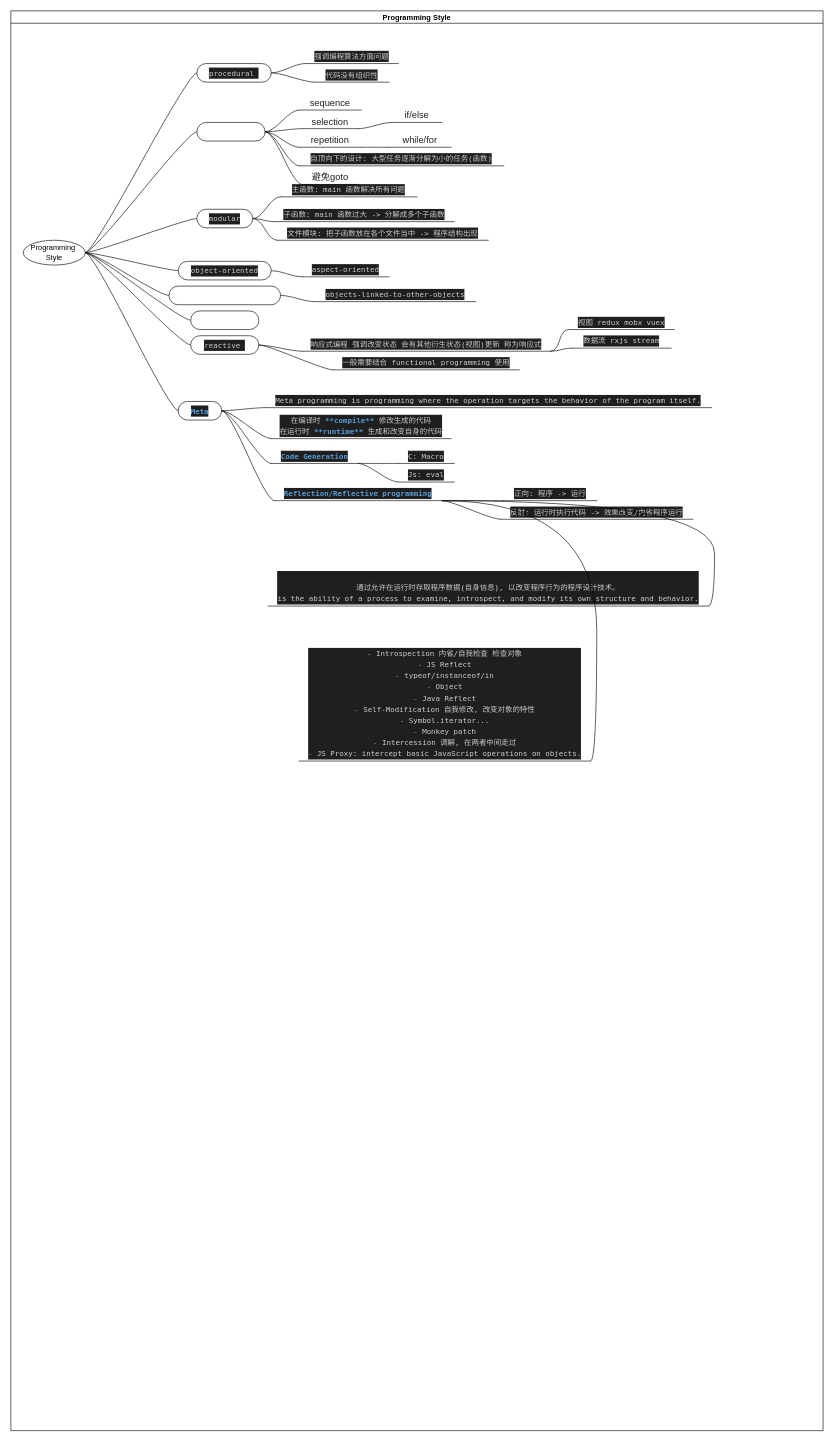
Some shapes in this 834 by 1442 pixel diagram are drawn without their labels. Each missing label, with the centre of its shape:
"Delegation-Oriented" belongs at (224,295).
"functional" belongs at (224,320).
"structured" belongs at (230,131).
